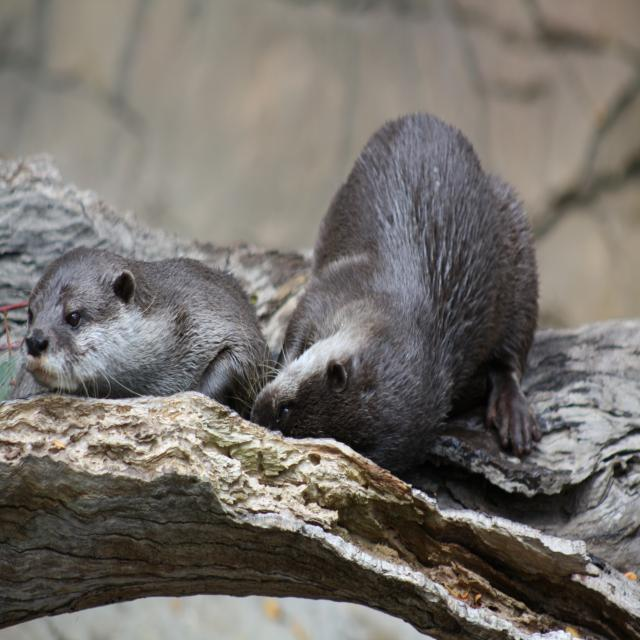otter: (252, 115, 547, 453), (23, 246, 276, 412)
